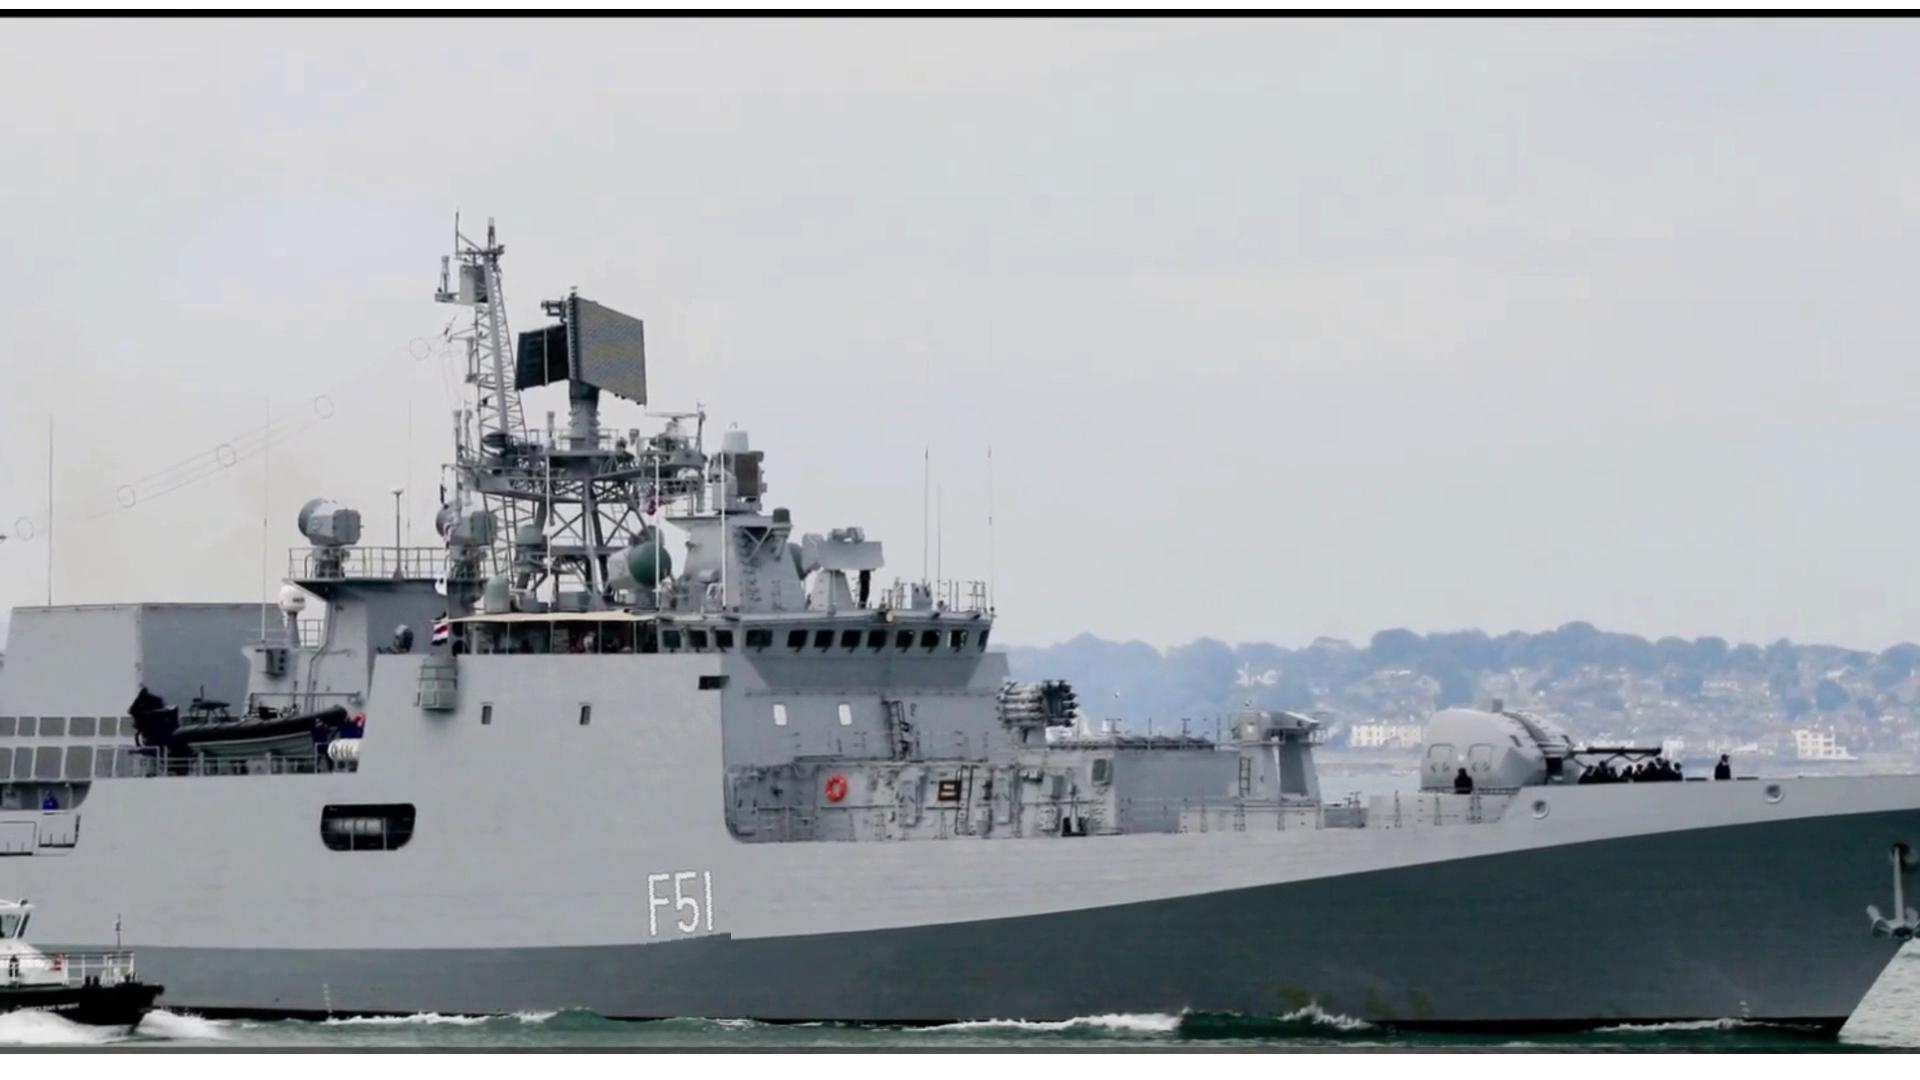OCR: (629, 864, 732, 953)
